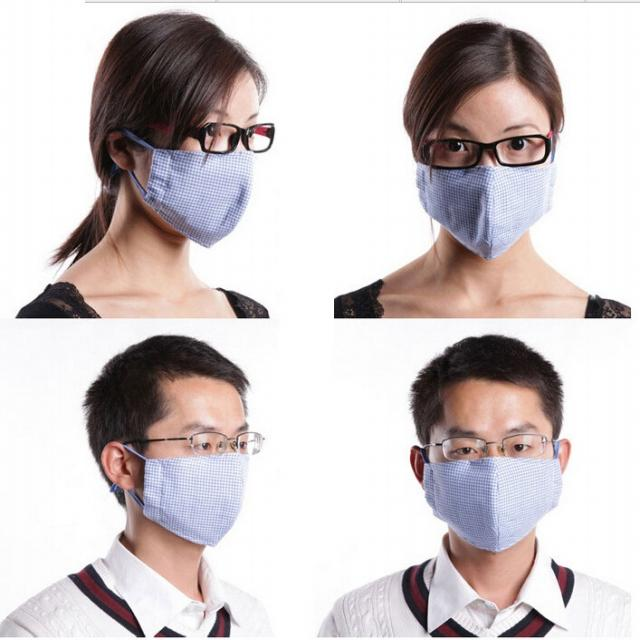mask: (416, 87, 553, 259), (426, 383, 562, 552), (143, 370, 246, 546), (146, 104, 258, 248)
